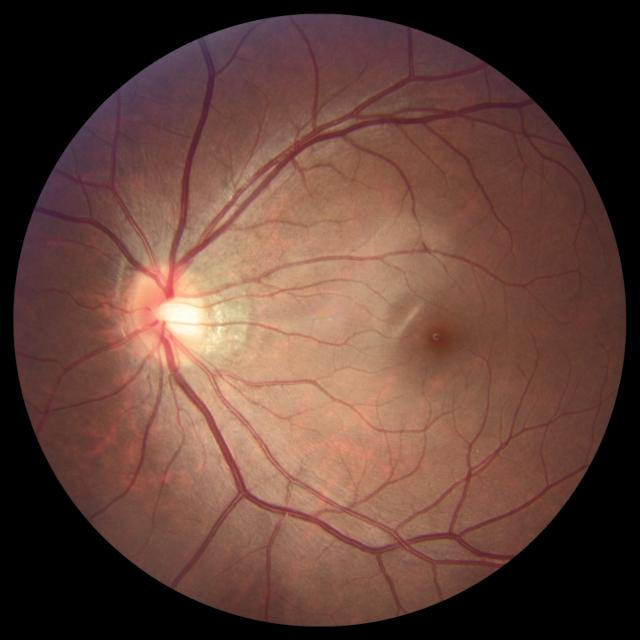OC: (150, 294, 194, 339)
OD: (130, 264, 210, 364)
